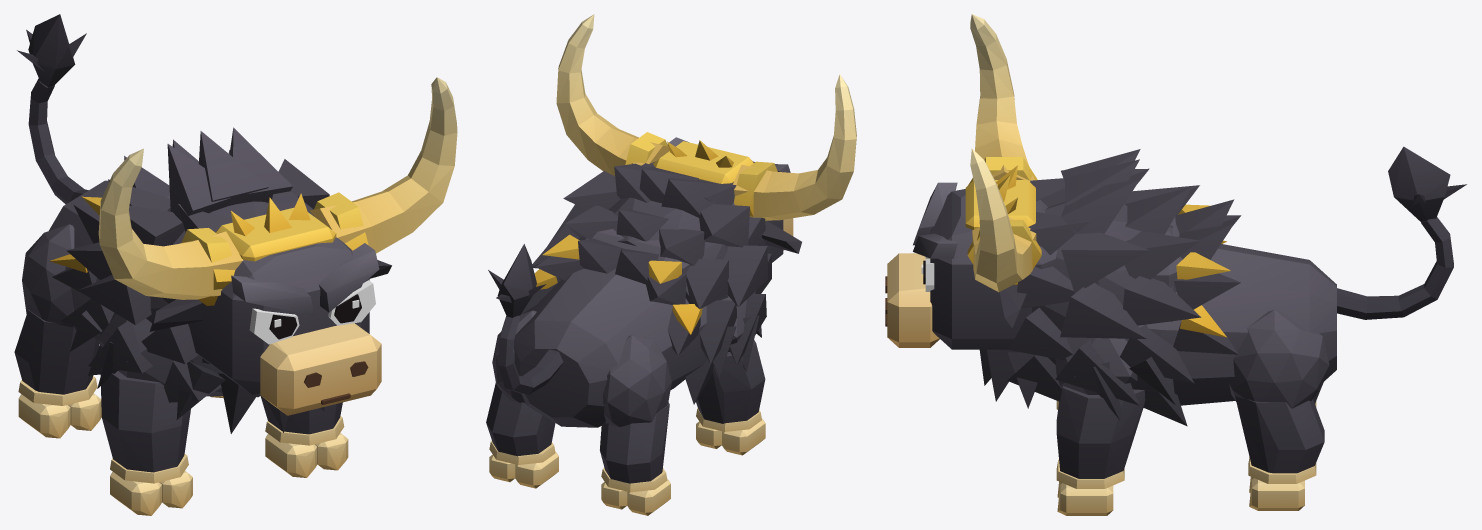
File: gym_bull.glb
3 views of the same model, side by side, from view 1: azimuth 30°, elevation 25°; view 2: azimuth 150°, elevation 25°; view 3: azimuth 270°, elevation 25° (orthographic). The views are drawn at different scales.
Visible parts, largest first — view 1: gym_bull; view 2: gym_bull; view 3: gym_bull.
Part boxes in pixels (box(x1,y1,x2,y2)): gym_bull: box(14, 14, 457, 515); gym_bull: box(486, 14, 856, 515); gym_bull: box(885, 14, 1466, 515).
Bounding box in the file's own units: 0.9846 × 1.09 × 1.49.
Materials: 1 (1 with a texture image).
